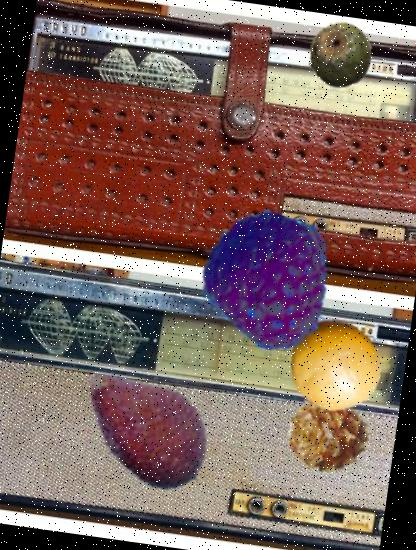Cactus: (300, 17, 377, 94)
Grapefruit: (282, 312, 388, 420)
Pineapple: (282, 387, 376, 481)
Raspberry: (194, 206, 342, 355)
Salak: (63, 339, 232, 508)
